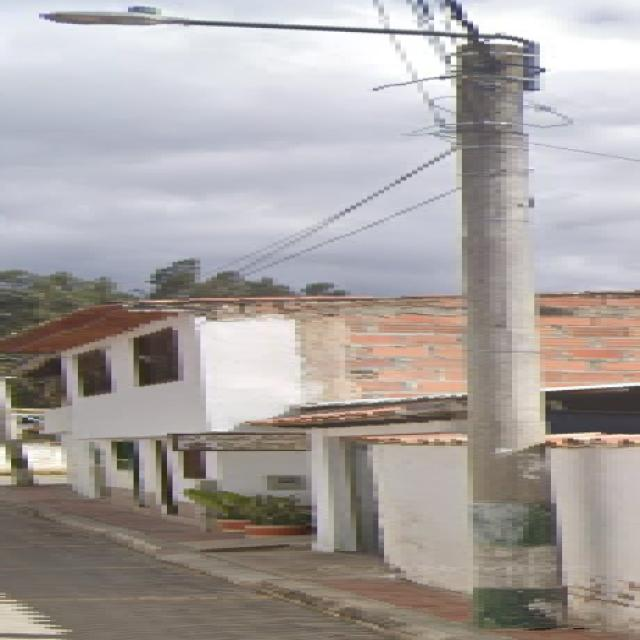Casa: (11, 299, 462, 591), (545, 294, 634, 629)
Poste: (39, 7, 562, 628)
